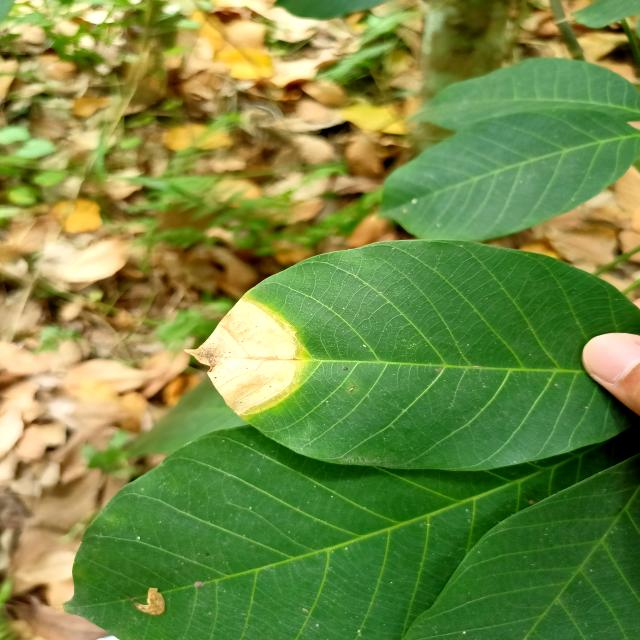Leaf-Blight: (184, 298, 304, 416)
